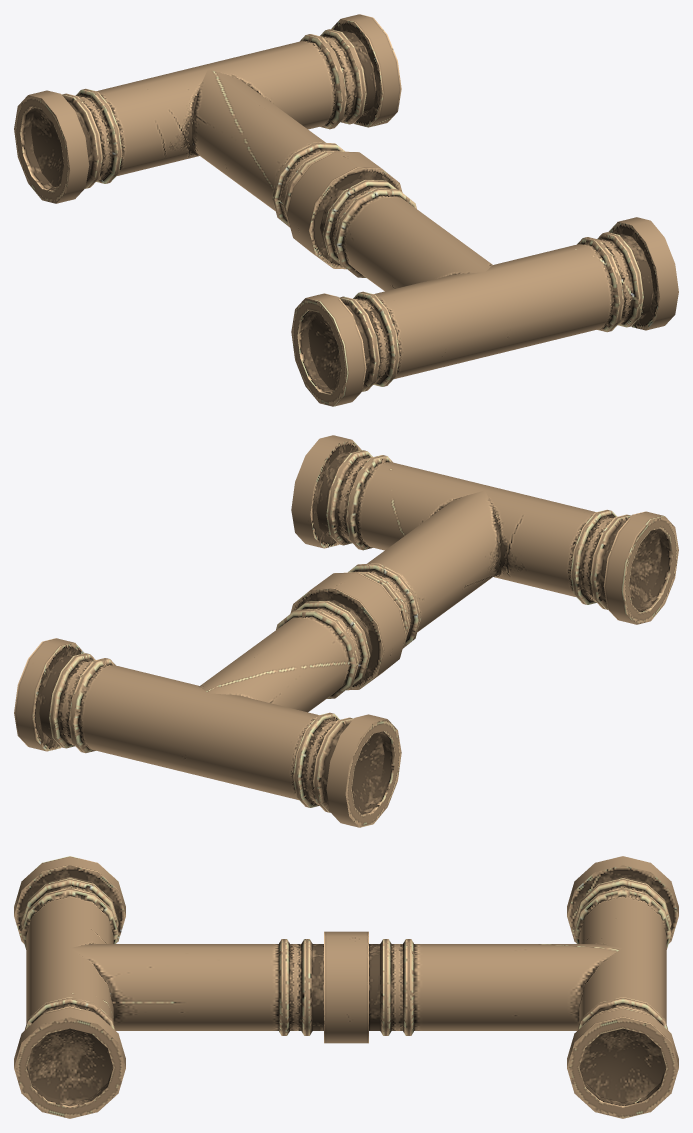
The model's file is pipe18.FBX.
The picture shows the model from 3 angles, top to bottom: view 1: azimuth 30°, elevation 25°; view 2: azimuth 150°, elevation 25°; view 3: azimuth 270°, elevation 25°; orthographic projection.
Visible parts, largest first — view 1: pipe18; view 2: pipe18; view 3: pipe18.
Boxes of the visible parts, x1,y1,x2,y2 form: pipe18: (14,14,678,406); pipe18: (14,435,678,827); pipe18: (14,856,678,1118).
Bounding box in the file's own units: 47.89 × 14.06 × 83.44.
